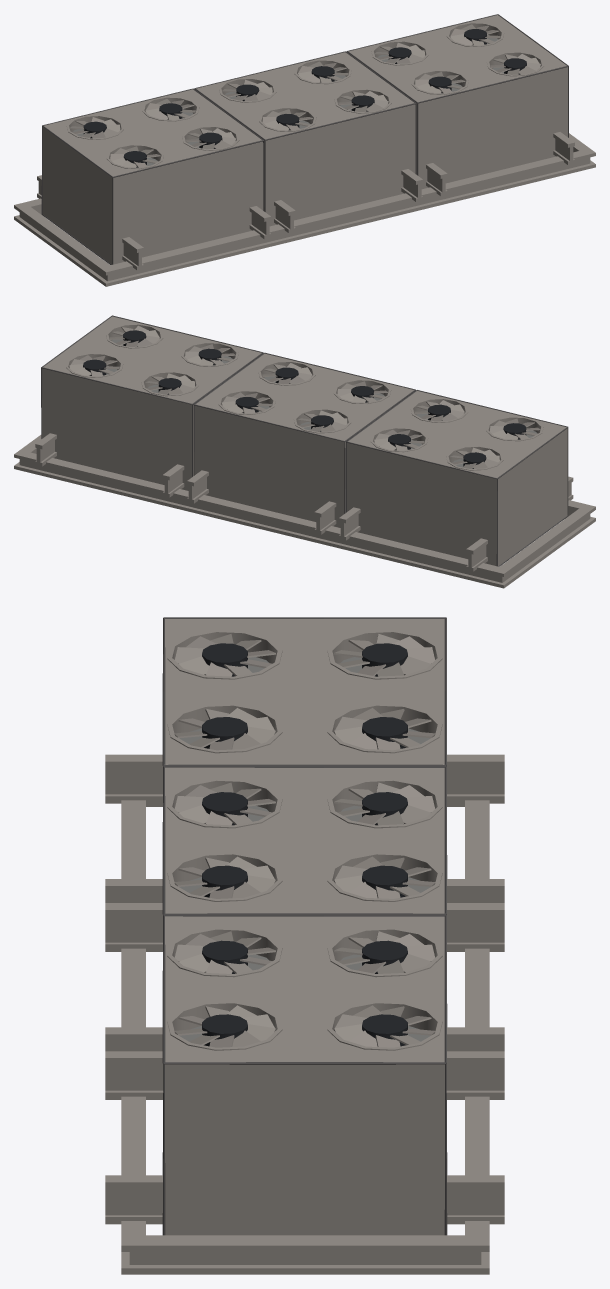
File: AirConditioner_3.fbx
The picture shows the model from 3 angles, top to bottom: view 1: azimuth 30°, elevation 25°; view 2: azimuth 150°, elevation 25°; view 3: azimuth 270°, elevation 25°; orthographic projection. The views are drawn at different scales.
Visible parts, largest first — view 1: AirConditioner_3; view 2: AirConditioner_3; view 3: AirConditioner_3.
Boxes of the visible parts, x1,y1,x2,y2 form: AirConditioner_3: (14,14,595,286); AirConditioner_3: (14,315,595,588); AirConditioner_3: (105,617,504,1274).
Bounding box in the file's own units: 471 × 90.61 × 166.
